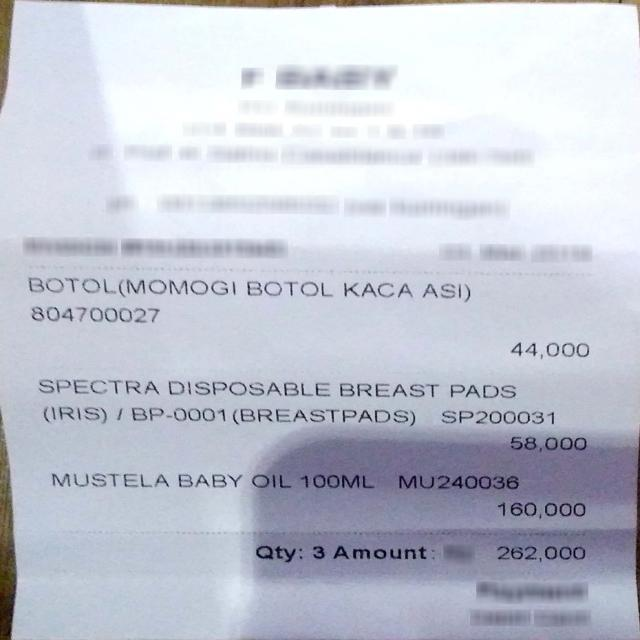kertas: (3, 2, 637, 640)
